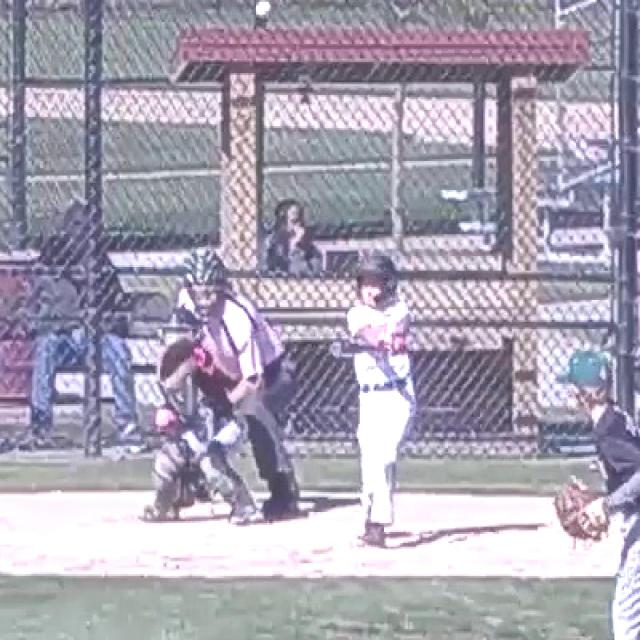baseball: (256, 1, 270, 15)
